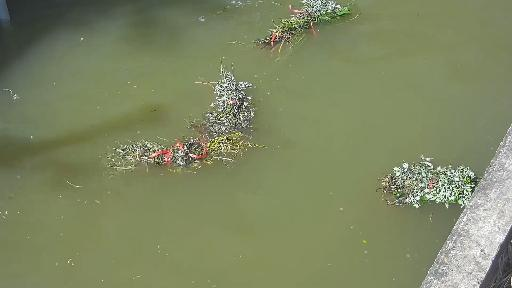twig: (103, 129, 283, 182), (188, 67, 284, 136), (374, 160, 491, 214), (257, 0, 361, 53)
